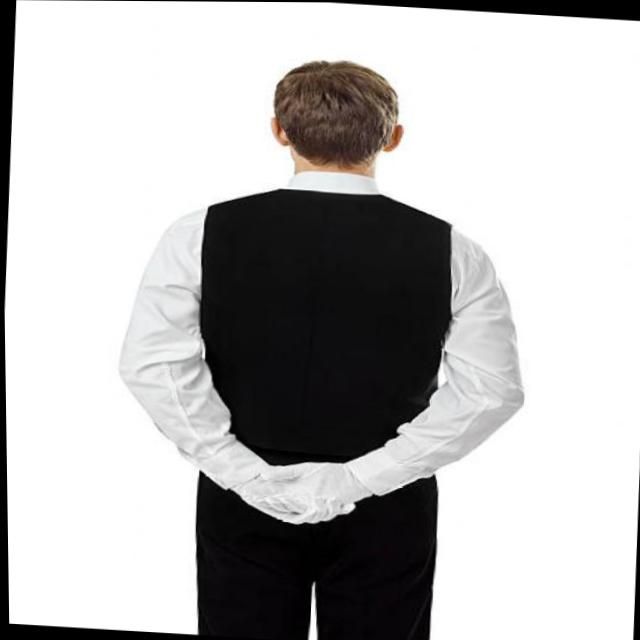no helmet: (257, 43, 419, 182)
